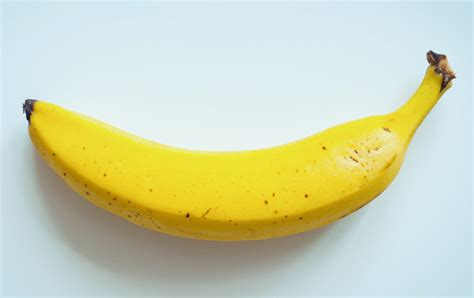banana: (17, 86, 417, 251)
